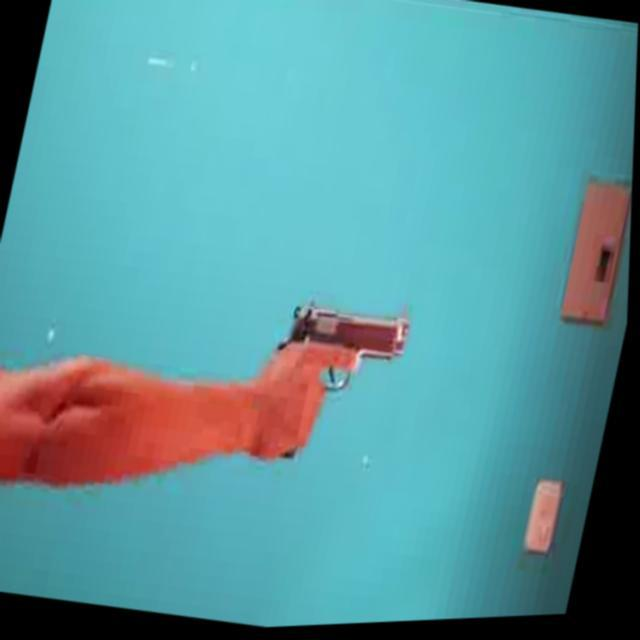weapon: (252, 286, 417, 481)
